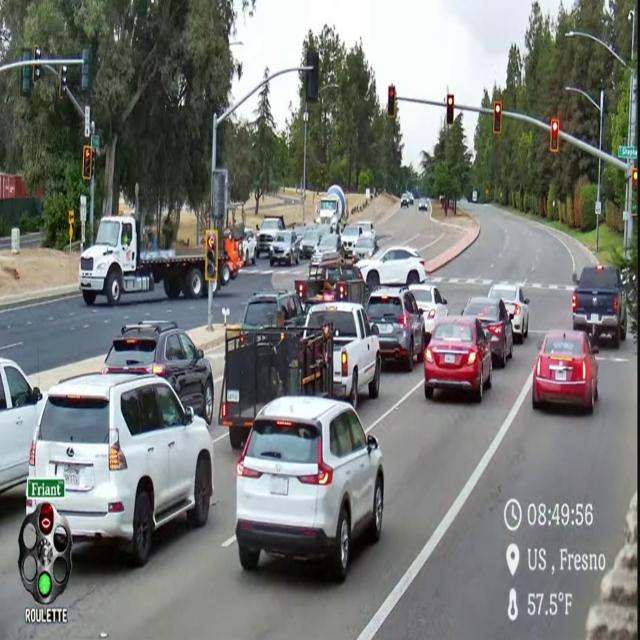car: (26, 374, 213, 566), (236, 397, 384, 582), (102, 320, 214, 424), (0, 359, 44, 493), (424, 316, 492, 402), (532, 330, 598, 413), (366, 287, 425, 371), (462, 297, 513, 367), (358, 246, 426, 290), (489, 282, 529, 343), (241, 290, 305, 328), (409, 284, 448, 343), (256, 216, 285, 258), (269, 230, 299, 266), (311, 233, 343, 263), (300, 226, 320, 259), (341, 225, 362, 256), (353, 235, 377, 259), (242, 228, 256, 265), (357, 221, 375, 240), (400, 192, 410, 207), (418, 198, 427, 211), (409, 192, 414, 205)
traffic signal: (306, 50, 320, 103), (205, 230, 218, 282), (82, 145, 94, 181), (81, 48, 90, 93), (20, 65, 32, 96), (550, 119, 559, 153), (387, 85, 396, 119), (493, 101, 502, 135), (59, 65, 67, 98), (446, 95, 454, 126), (33, 64, 41, 81), (632, 168, 637, 188)
truck: (219, 327, 333, 449), (79, 216, 207, 305), (305, 302, 381, 408), (572, 264, 627, 348), (294, 255, 367, 311), (317, 184, 346, 231), (256, 216, 285, 258), (472, 191, 477, 203)
